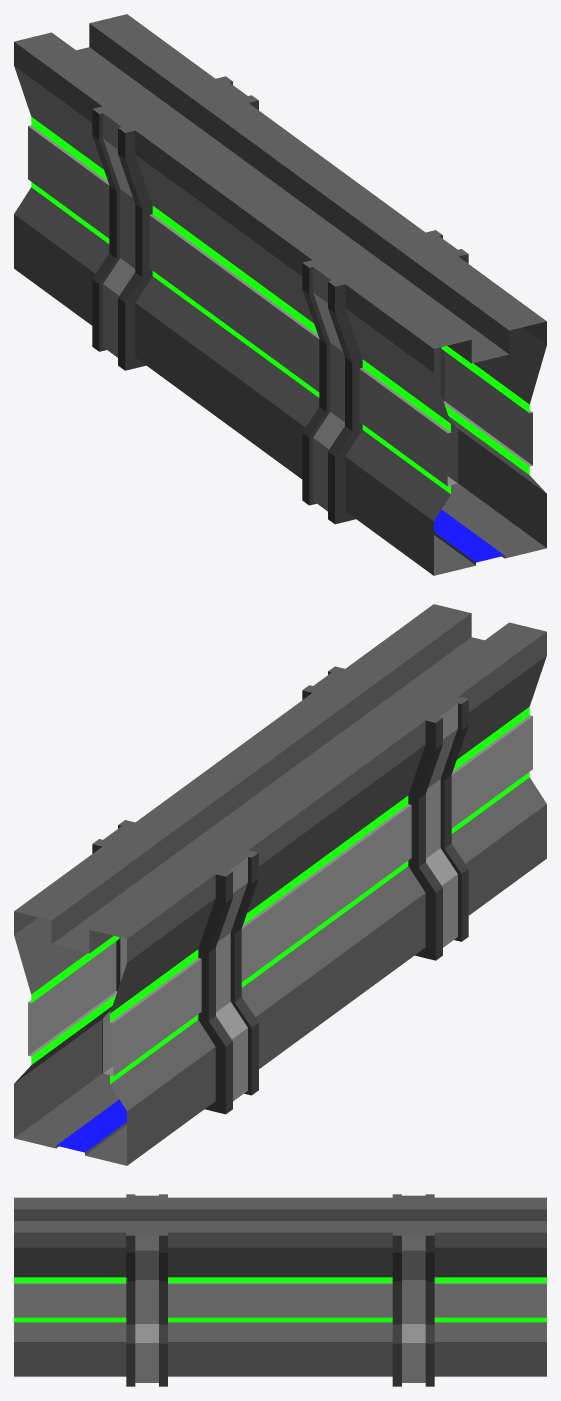
File: SkyTrain_Rail_02_Straight.FBX
The picture shows the model from 3 angles, top to bottom: view 1: azimuth 30°, elevation 25°; view 2: azimuth 150°, elevation 25°; view 3: azimuth 270°, elevation 25°; orthographic projection. The views are drawn at different scales.
Visible parts, largest first — view 1: SkyTrain_Rail_02_Straight_LOD0; view 2: SkyTrain_Rail_02_Straight_LOD0; view 3: SkyTrain_Rail_02_Straight_LOD0.
Part boxes in pixels (x1,y1,x2,y2): SkyTrain_Rail_02_Straight_LOD0: (14,14,546,575); SkyTrain_Rail_02_Straight_LOD0: (14,604,546,1165); SkyTrain_Rail_02_Straight_LOD0: (14,1194,546,1386).
Size of what is drawn, in the model's own units: 66.34 by 113 by 361.
